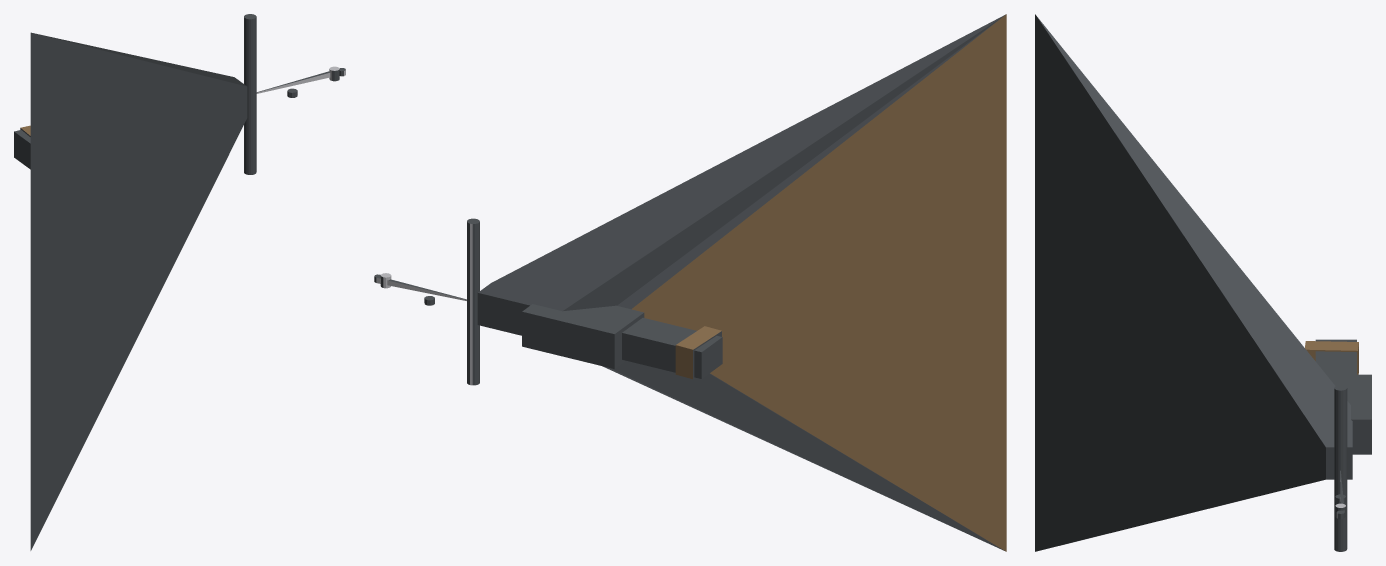
The model's file is viewmodel_shotgun.gltf.
3 renders of one model, left to right at view 1: azimuth 30°, elevation 25°; view 2: azimuth 150°, elevation 25°; view 3: azimuth 270°, elevation 25°, orthographic. The views are drawn at different scales.
Visible parts, largest first — view 1: viewmodel_shotgun; view 2: viewmodel_shotgun; view 3: viewmodel_shotgun.
Boxes of the visible parts, x1,y1,x2,y2 form: viewmodel_shotgun: (14, 14, 345, 550); viewmodel_shotgun: (374, 14, 1006, 551); viewmodel_shotgun: (1035, 14, 1371, 551).
Bounding box in the file's own units: 1.86 × 2 × 1.14.
